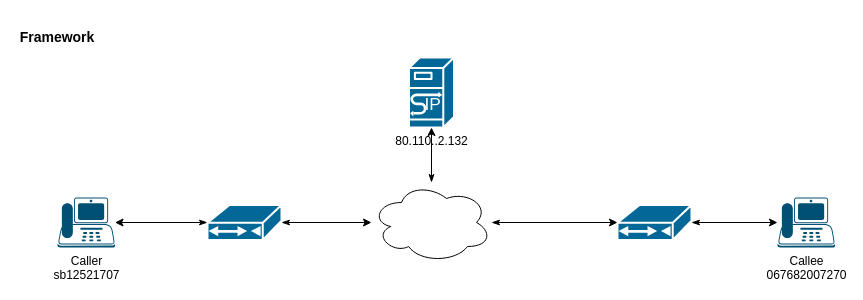
This 863x300 diagram has some shape labels left out. Each missing label, with the box of its shape:
C7465LG 80.110.2.151: (616, 204, 692, 240)
CH7465LG 10.95.255.3: (206, 204, 282, 240)
